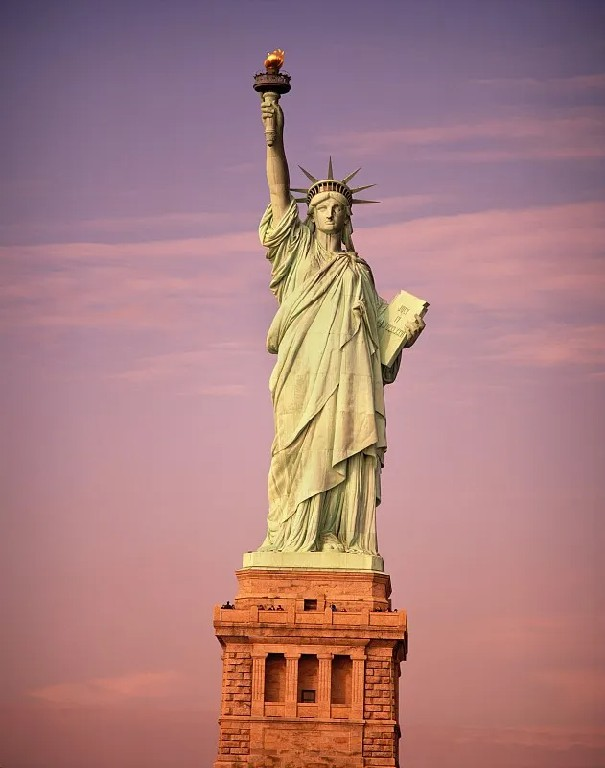SL: (212, 49, 430, 768)
